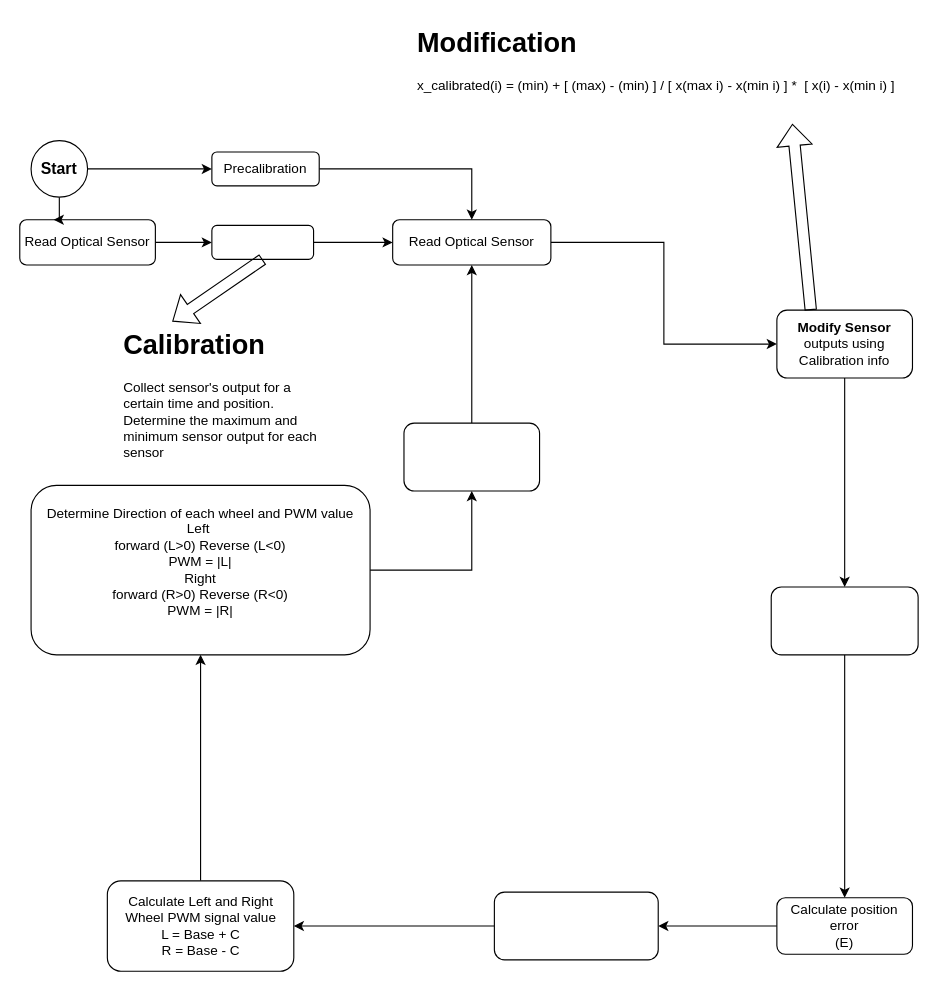
This 938x991 diagram has some shape labels left out. Each missing label, with the centre of its shape:
"Calculate line position using line detection Algorithom" goes at (x=844, y=620).
"Calculate PWM signal correction value Using PID equation C = Kp* E - Kd*E + Ki*E" goes at (x=575, y=925).
"Calibration" goes at (x=262, y=241).
"Send PWM signals and Wheel direction to Motodriver" goes at (x=471, y=456).
